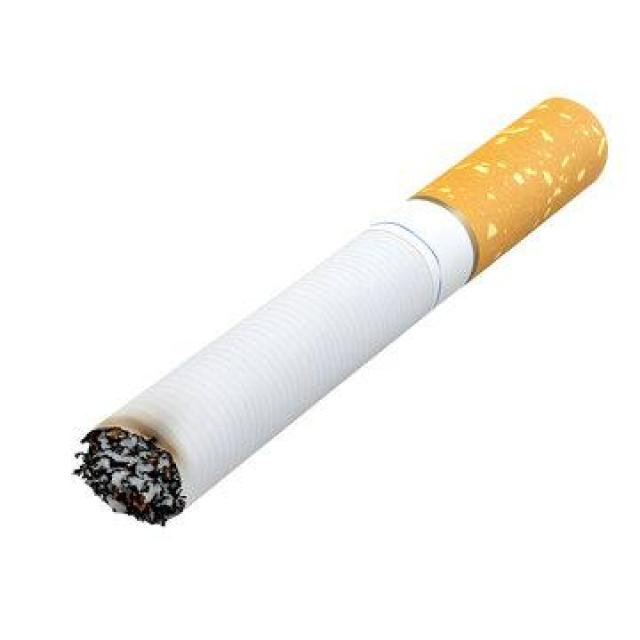cigarette: (75, 98, 610, 526)
